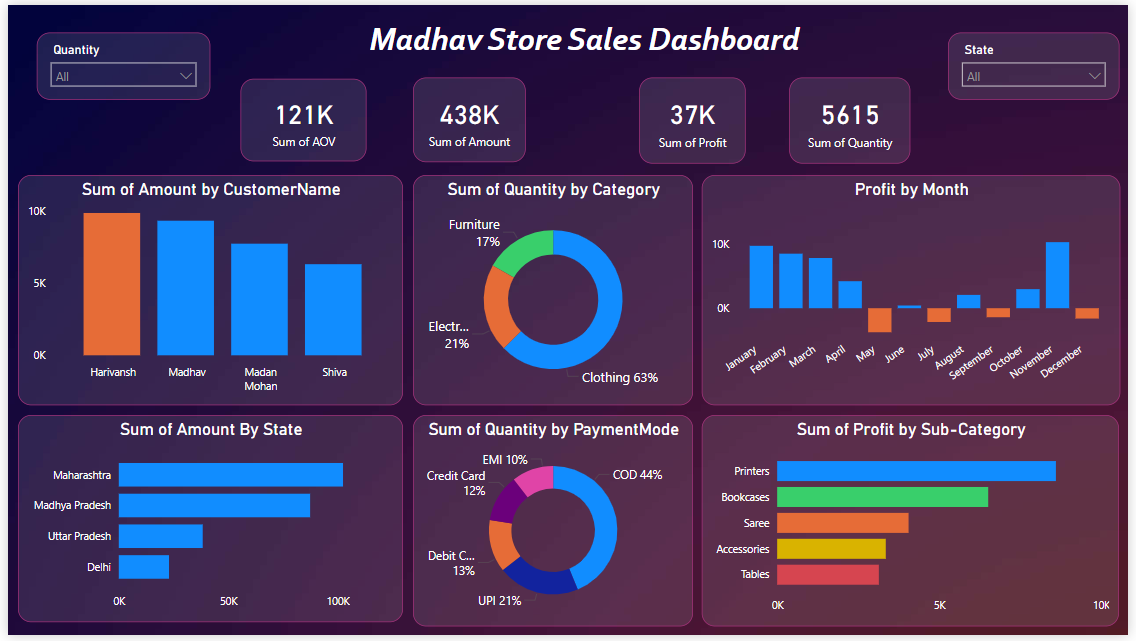

The page's visual inventory and layout, read from the dashboard file:
{"tool":"powerbi","page":{"name":"Dashboard","canvas":[1280,720],"ordinal":0},"visuals":[{"type":"textbox","box":[375.7,11.4,565.7,58.6],"z":0},{"type":"columnChart","title":"Profit by Month","fields":{"Category":["Orders.Order Date.Variation.Date Hierarchy.Month"],"Y":["Sum(Details.Profit)"]},"box":[792.9,194.3,478.6,262.9],"z":1000},{"type":"barChart","title":"Sum of Profit by Sub-Category","fields":{"Category":["Details.Sub-Category"],"Y":["Sum(Details.Profit)"]},"box":[792.9,468.6,477.1,241.4],"z":2000},{"type":"donutChart","fields":{"Category":["Details.Category"],"Y":["Sum(Details.Quantity)"]},"box":[462.9,194.3,320,262.9],"z":3000},{"type":"donutChart","fields":{"Y":["Sum(Details.Quantity)"],"Category":["Details.PaymentMode"]},"box":[462.9,468.6,320,241.4],"z":4000},{"type":"card","fields":{"Values":["Sum(Details.Amount)"]},"box":[462.9,82.9,128.6,97.1],"z":5000},{"type":"card","fields":{"Values":["Sum(Details.Profit)"]},"box":[721.4,82.9,121.4,98.6],"z":6000},{"type":"card","fields":{"Values":["Sum(Details.Quantity)"]},"box":[892.9,82.9,138.6,98.6],"z":7000},{"type":"card","fields":{"Values":["Sum(Details.AOV)"]},"box":[265.7,84.3,144.3,94.3],"z":8000},{"type":"barChart","title":"Sum of Amount By State","fields":{"Category":["Orders.State"],"Y":["Sum(Details.Amount)"]},"box":[11.4,468.6,440,237.1],"z":9000},{"type":"columnChart","fields":{"Category":["Orders.CustomerName"],"Y":["Sum(Details.Amount)"]},"box":[11.4,194.3,440,262.9],"z":10000},{"type":"slicer","fields":{"Values":["Details.Quantity"]},"box":[32.9,31.4,198.6,77.1],"z":11000},{"type":"slicer","fields":{"Values":["Orders.State"]},"box":[1074.3,31.4,195.7,77.1],"z":12000}]}

Visuals, with their boxes in screenshot pixels (x1, y1, x2, y2), scaled from the page's 1280x720 canvas onto the 1136x641 screenshot:
textbox: pyautogui.locateOnScreen(333, 10, 835, 62)
"Profit by Month" columnChart: pyautogui.locateOnScreen(704, 173, 1128, 407)
"Sum of Profit by Sub-Category" barChart: pyautogui.locateOnScreen(704, 417, 1127, 632)
donutChart - Details.Category x Sum(Details.Quantity): pyautogui.locateOnScreen(411, 173, 695, 407)
donutChart - Sum(Details.Quantity) x Details.PaymentMode: pyautogui.locateOnScreen(411, 417, 695, 632)
card - Sum(Details.Amount): pyautogui.locateOnScreen(411, 74, 525, 160)
card - Sum(Details.Profit): pyautogui.locateOnScreen(640, 74, 748, 162)
card - Sum(Details.Quantity): pyautogui.locateOnScreen(792, 74, 915, 162)
card - Sum(Details.AOV): pyautogui.locateOnScreen(236, 75, 364, 159)
"Sum of Amount By State" barChart: pyautogui.locateOnScreen(10, 417, 401, 628)
columnChart - Orders.CustomerName x Sum(Details.Amount): pyautogui.locateOnScreen(10, 173, 401, 407)
slicer - Details.Quantity: pyautogui.locateOnScreen(29, 28, 205, 97)
slicer - Orders.State: pyautogui.locateOnScreen(953, 28, 1127, 97)
